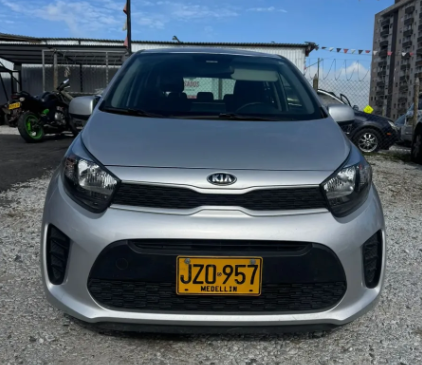placa: (177, 256, 261, 295)
